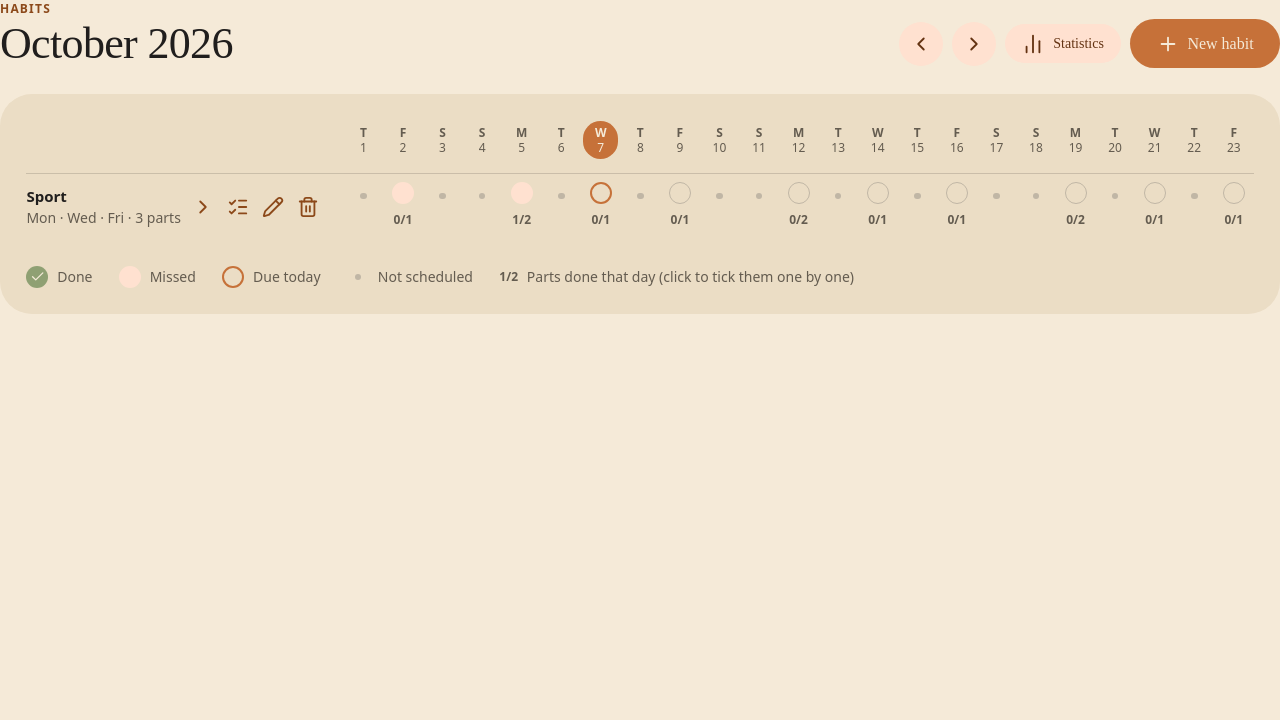
it: ticking the parts of a day › puts a tick back and says so when the server refuses it
The width and height of the screenshot is (1280, 720).
Expected: the table is shown, [26, 121, 1254, 240]
Click the button "1/2".
click(522, 220)  # box [504, 209, 539, 231]
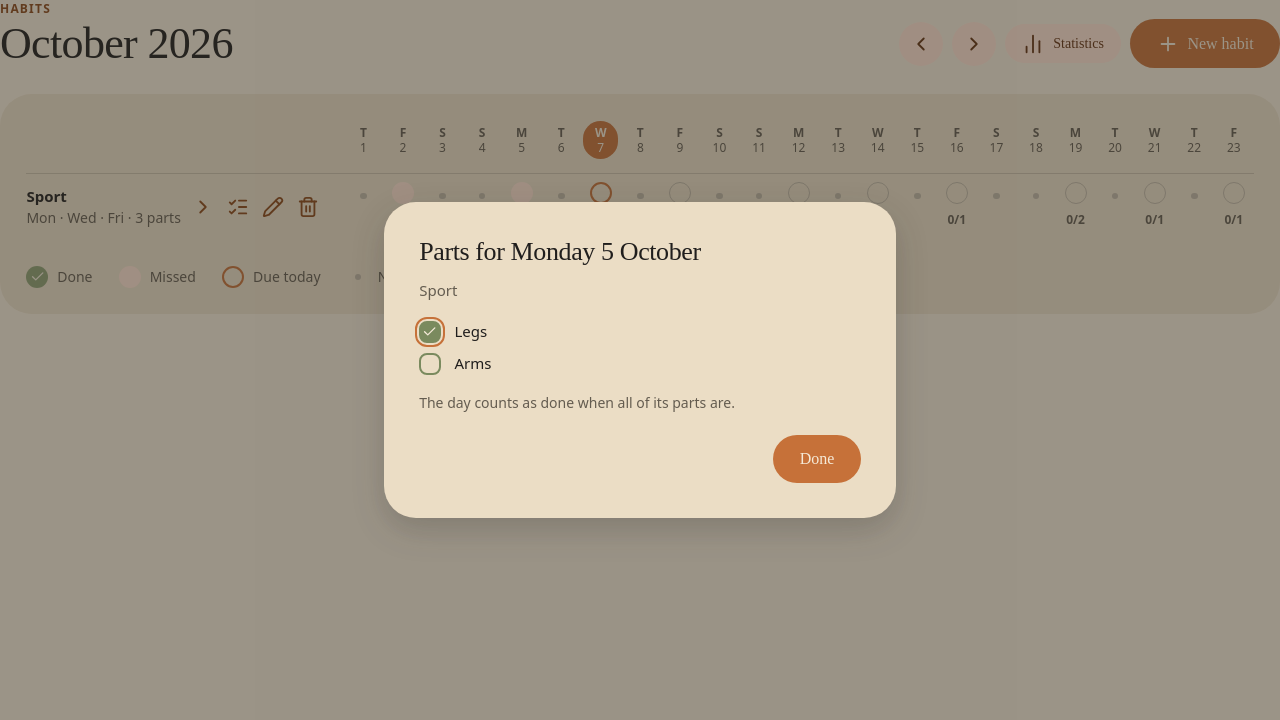
Click the checkbox named "Sport: Arms".
click(430, 364)  # box [419, 353, 441, 375]
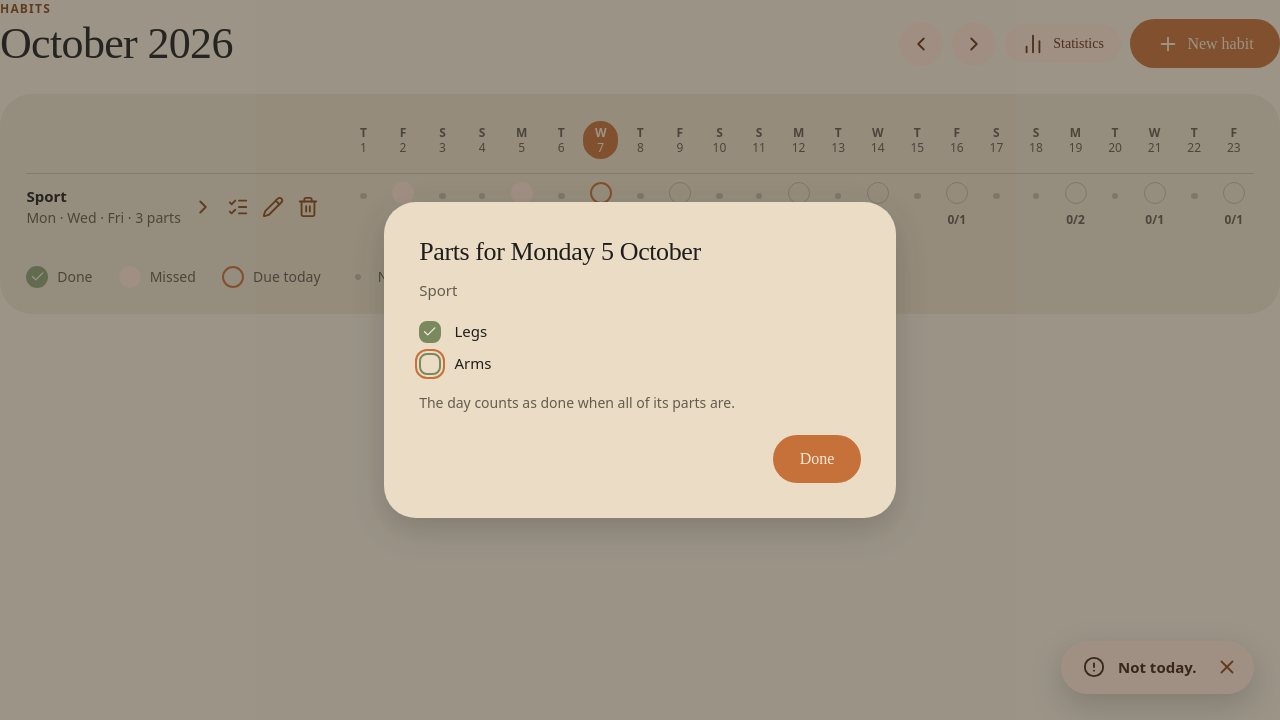
Expected: the checkbox named "Sport: Arms" is not checked, [419, 353, 441, 375]
Expected: the message reads "Not today.", [1118, 657, 1196, 677]
